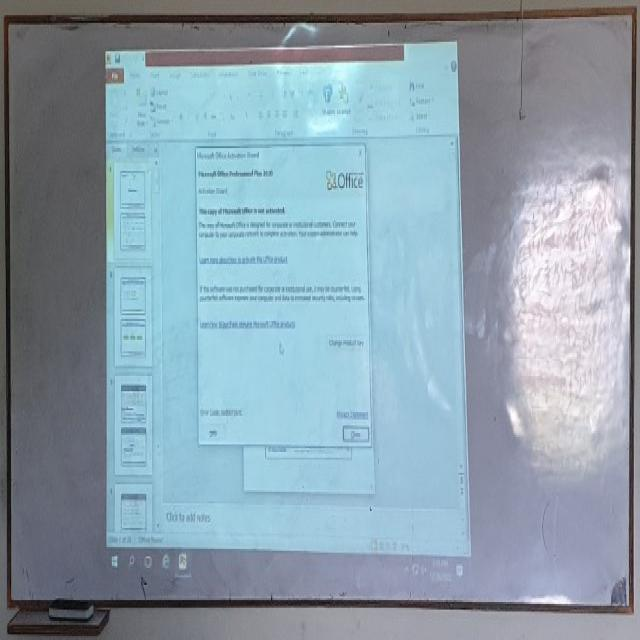Slide: (104, 33, 476, 593)
White-board: (4, 9, 634, 610)
